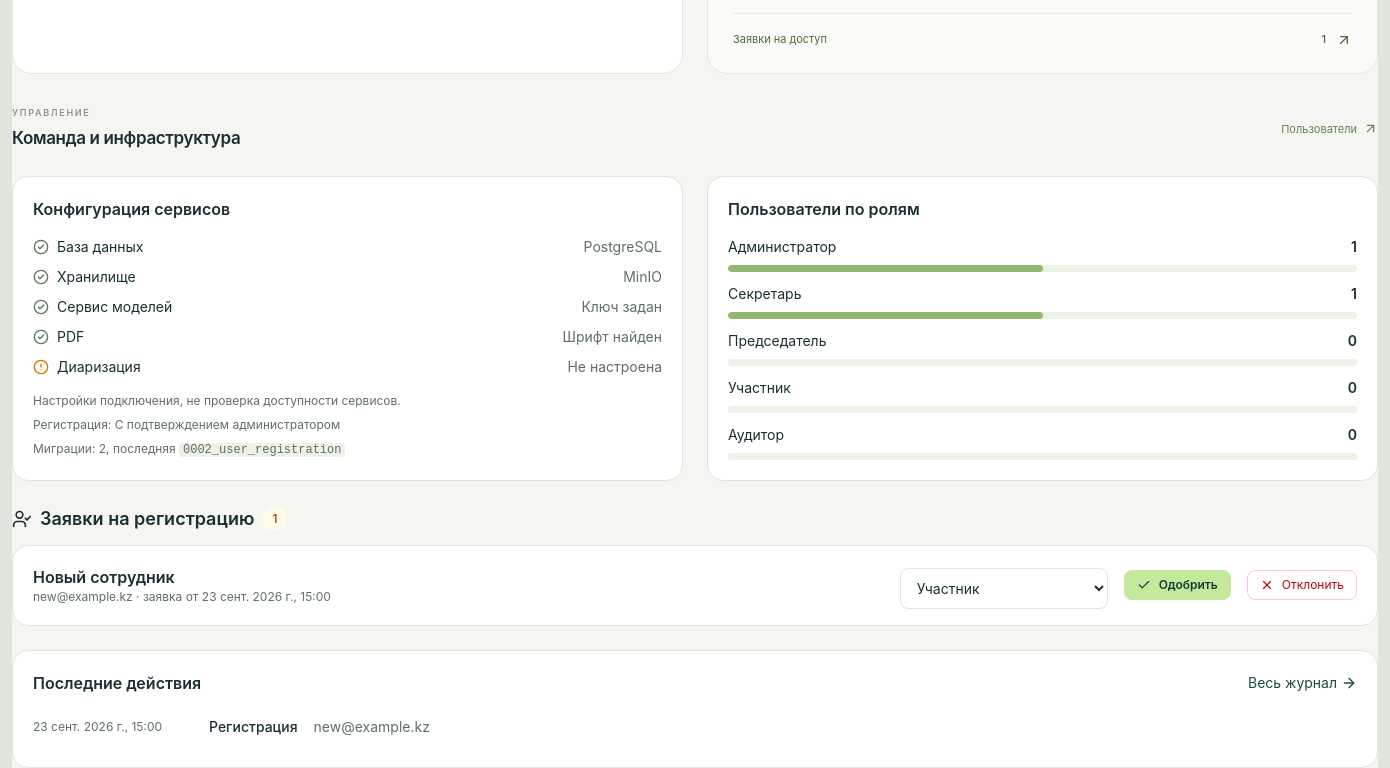
Test: AdminPage › approves a registration with the chosen role
(page scrolled)
Check: the text "Новый сотрудник" is shown, box [33, 567, 175, 587]
Check: the text "PostgreSQL" is shown, box [584, 237, 662, 257]
Select "Председатель" in the dropdown named "Роль для Новый сотрудник". click: (1004, 588)
box: [900, 568, 1108, 609]
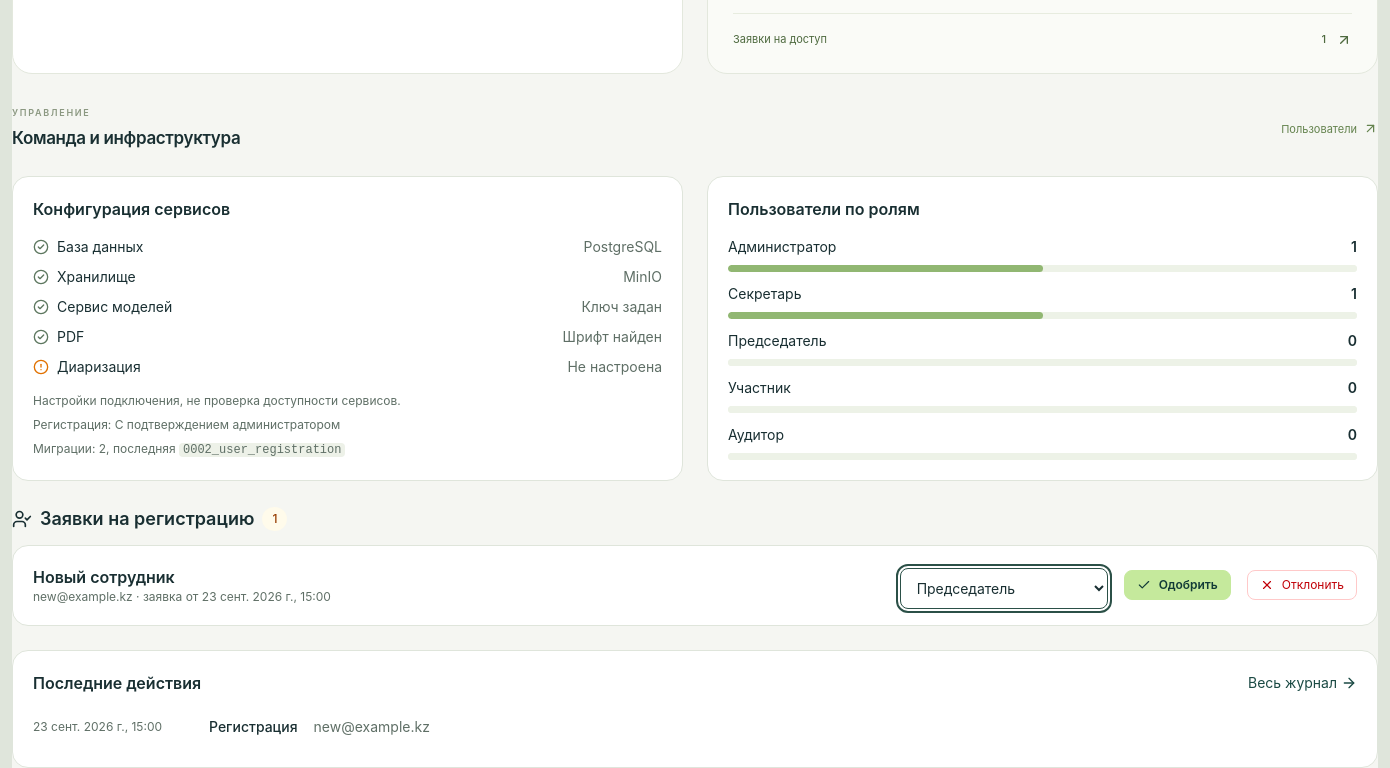
Click the button "Одобрить". click: (1177, 585)
box: [1124, 570, 1231, 600]
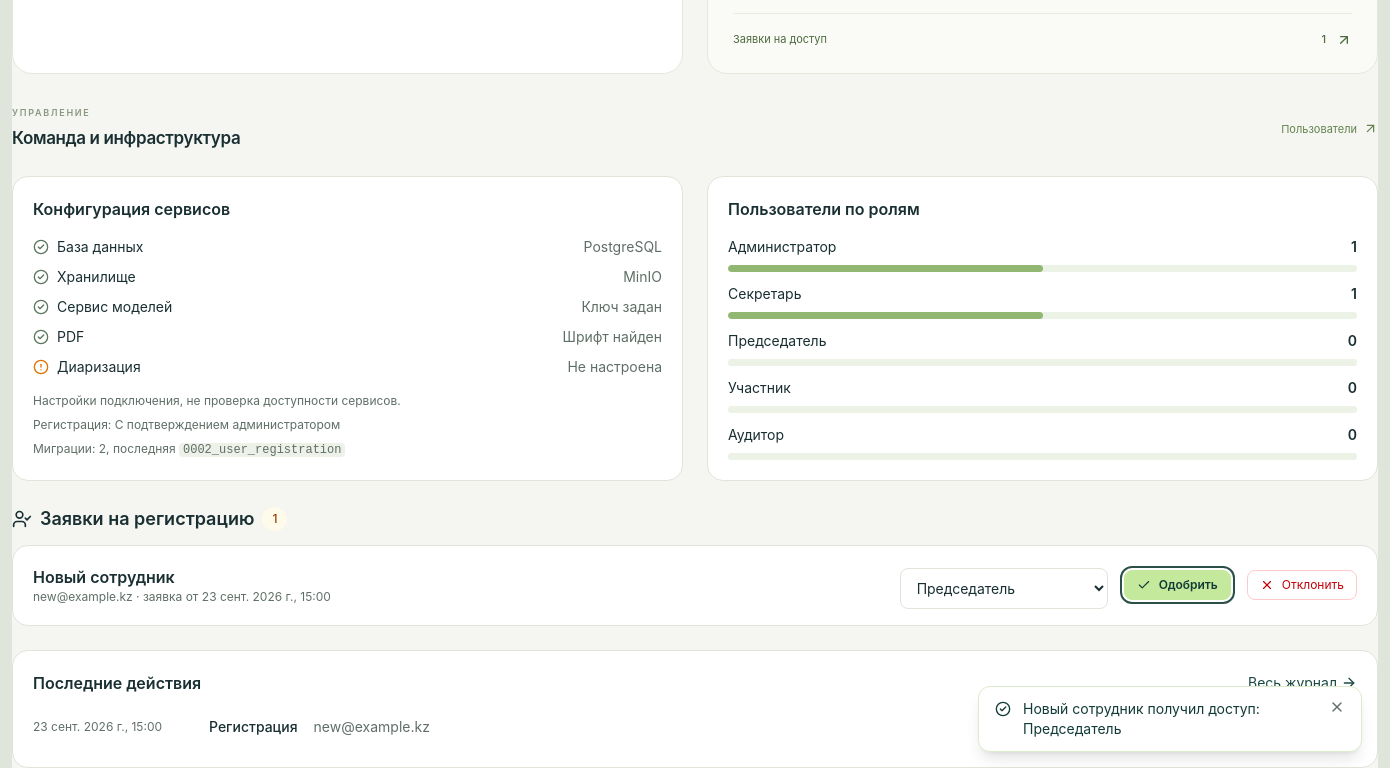
Check: the text "Новый сотрудник получил доступ: Председатель" is shown, box [1023, 700, 1260, 737]
